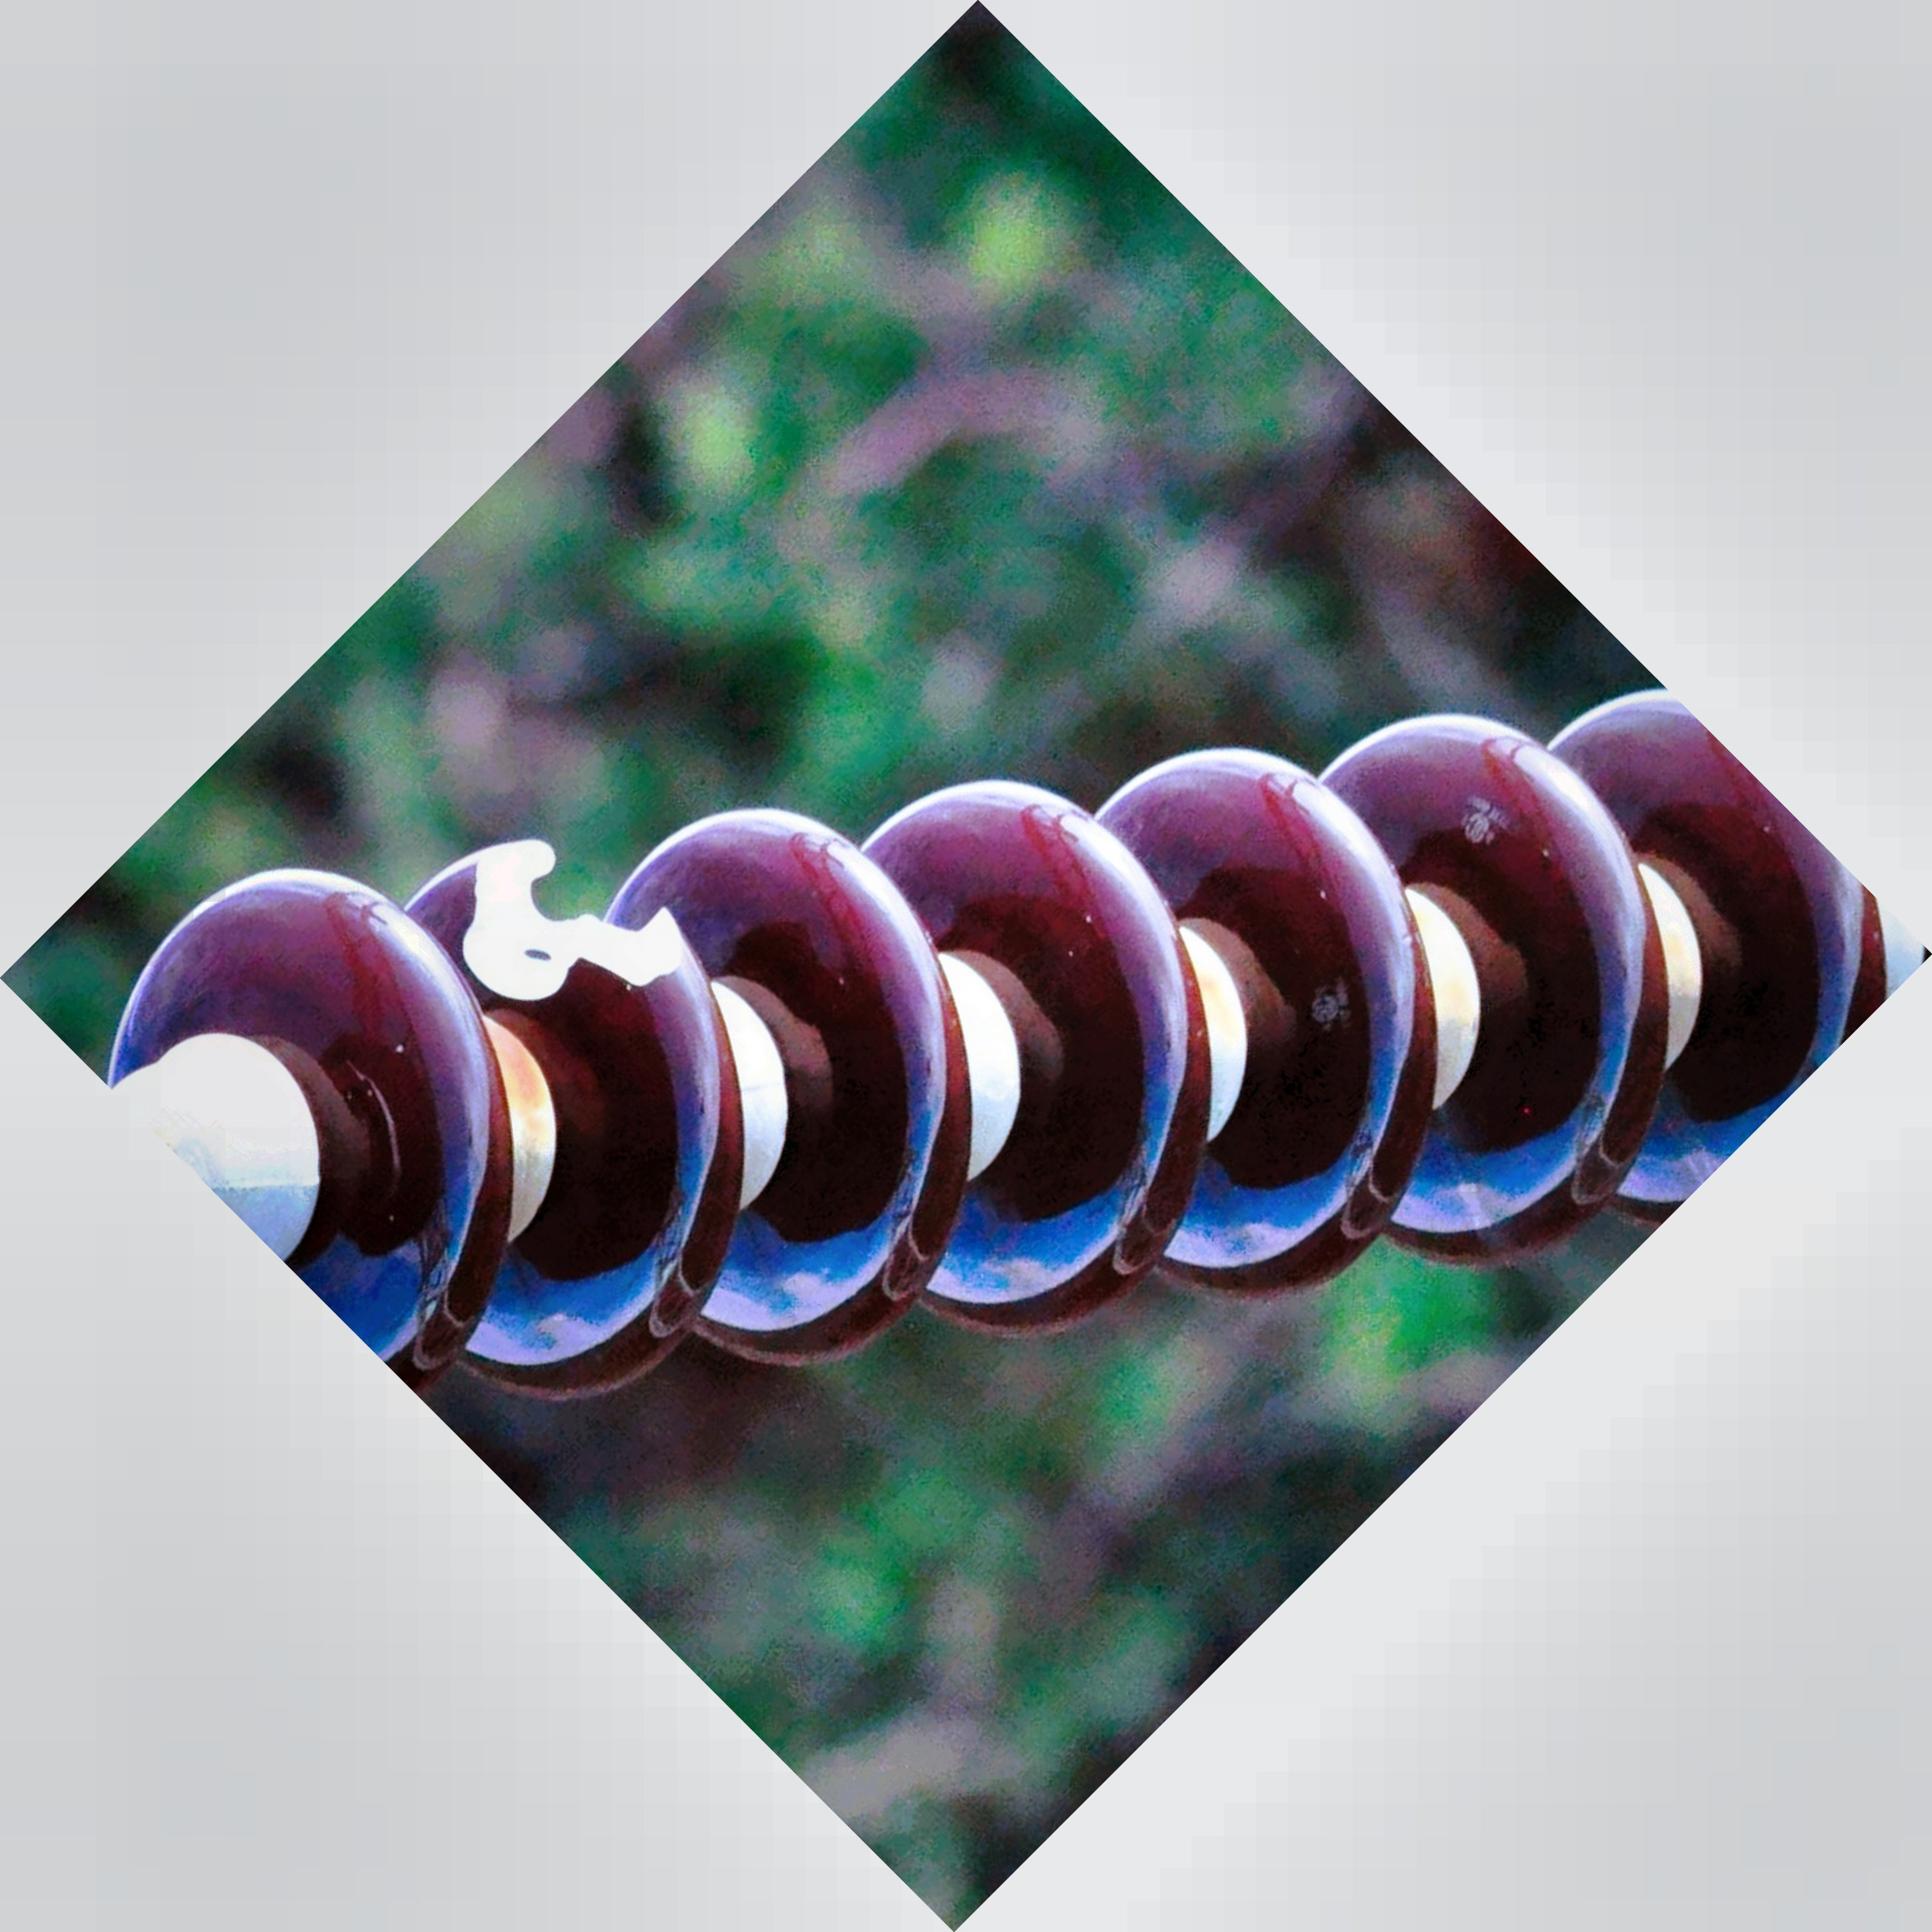insulator breakage: (387, 805, 757, 1407)
